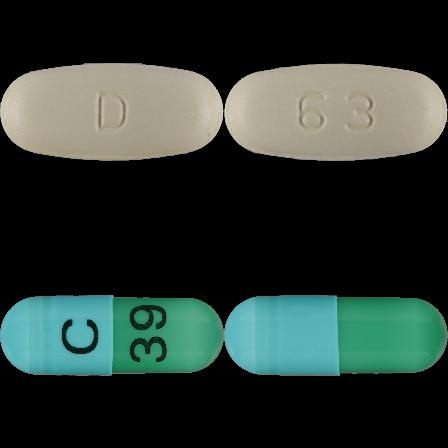50268-179: (0, 0, 224, 224)
